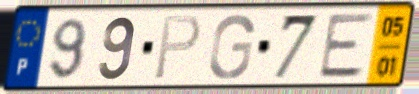7: (271, 12, 321, 81)
9: (46, 15, 93, 82), (98, 15, 136, 82)
E: (316, 11, 377, 81)
G: (206, 12, 257, 81)
P: (151, 12, 203, 82)
